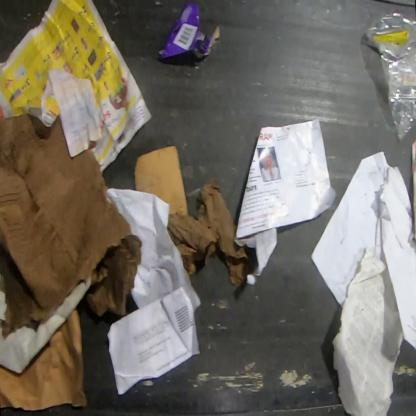cardboard: (0, 111, 142, 341), (135, 146, 249, 288), (0, 309, 86, 412), (158, 2, 219, 62)
rigid_plastic: (361, 11, 415, 143)
